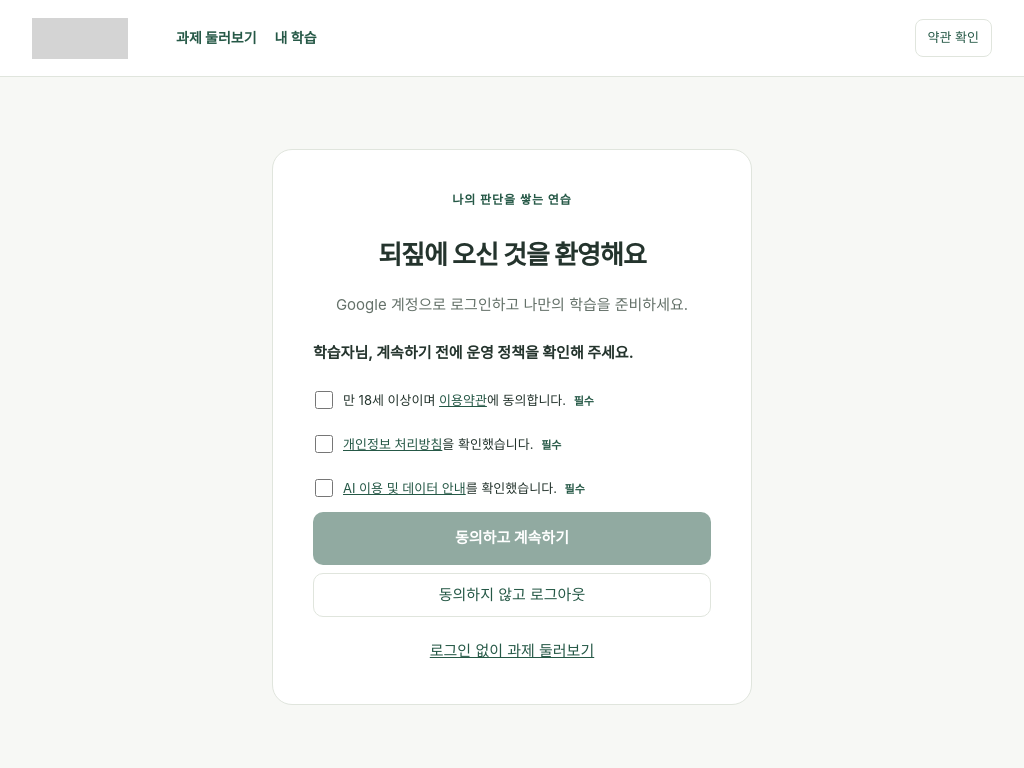
Scenario: requires all current policies before an existing account can continue
The image size is (1024, 768).
Expected: the button "동의하고 계속하기" is disabled, x1=313 y1=512 x2=711 y2=565
What coordinates should you click on to do the following:
click the checkbox labelled "만 18세 이상이며 이용약관 에 동의합니다. 필수"
I would click on:
 (324, 400)
Its box is x1=315 y1=391 x2=333 y2=409.
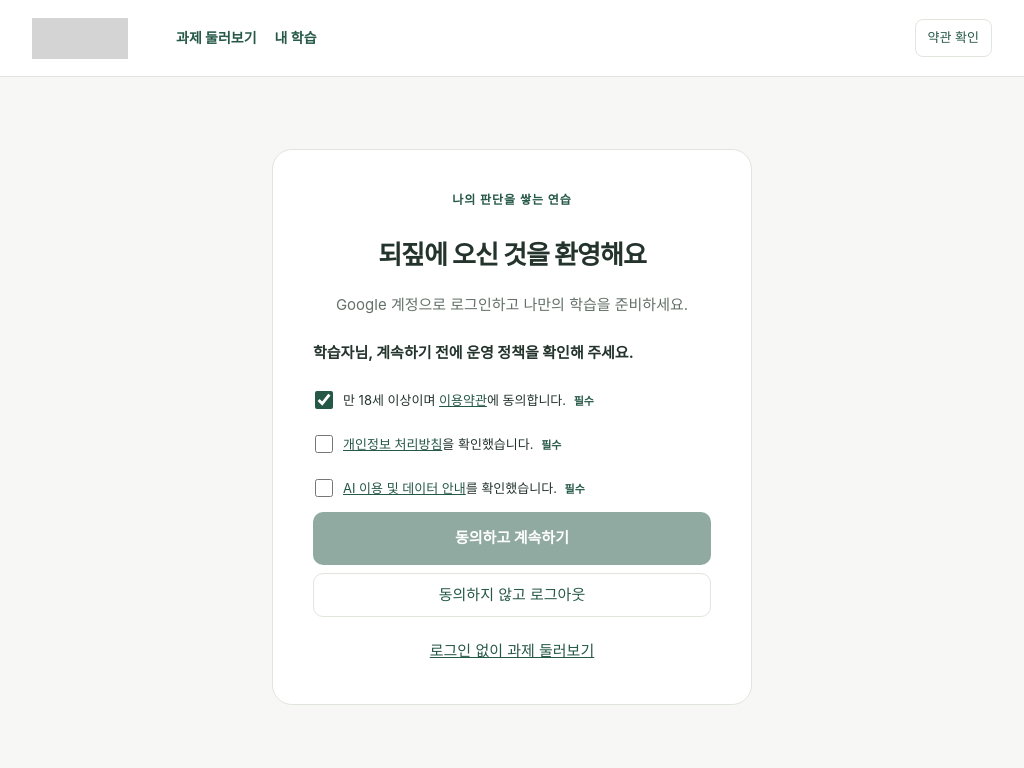
What coordinates should you click on to do the following:
click the checkbox labelled "개인정보 처리방침 을 확인했습니다. 필수"
I would click on:
 (324, 444)
Its box is x1=315 y1=435 x2=333 y2=453.
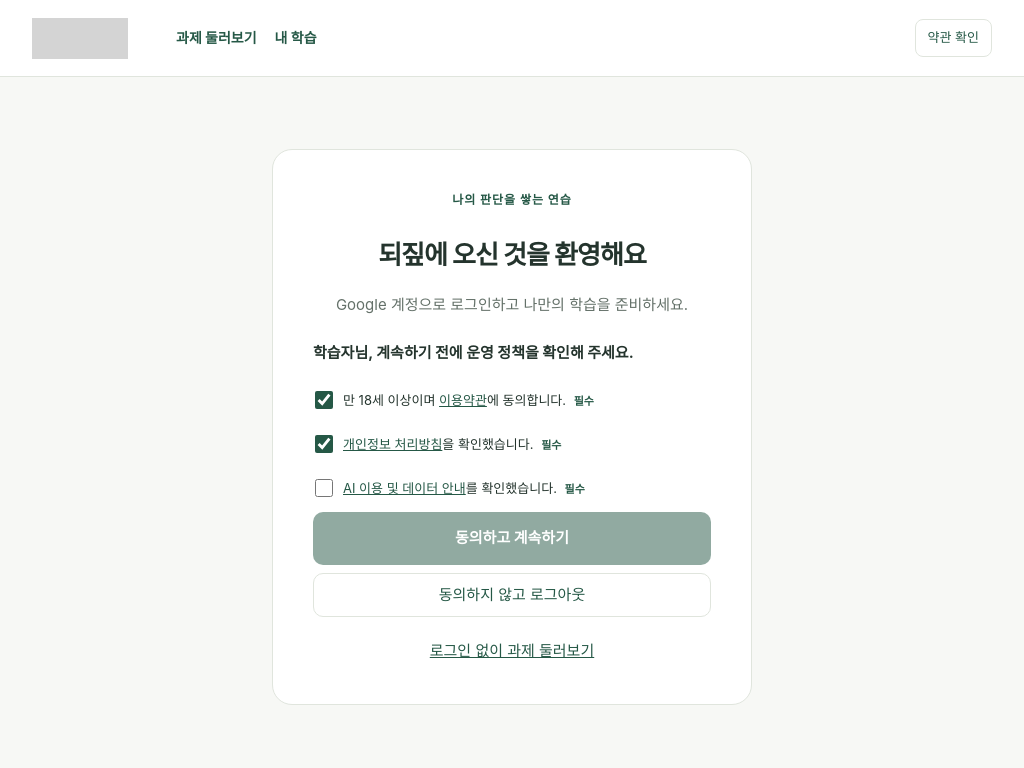
What coordinates should you click on to do the following:
click the checkbox labelled "AI 이용 및 데이터 안내 를 확인했습니다. 필수"
I would click on:
 (324, 488)
Its box is x1=315 y1=479 x2=333 y2=497.
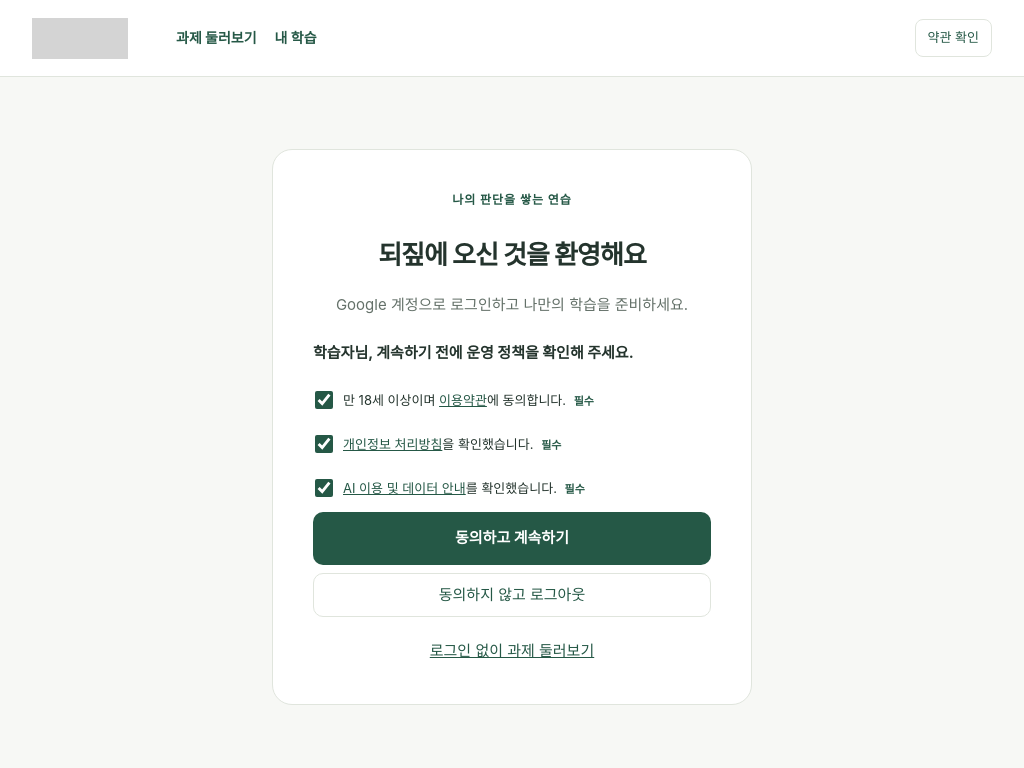
Expected: the button "동의하고 계속하기" is enabled, x1=313 y1=512 x2=711 y2=565
